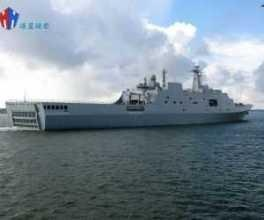warship: (6, 52, 253, 131)
